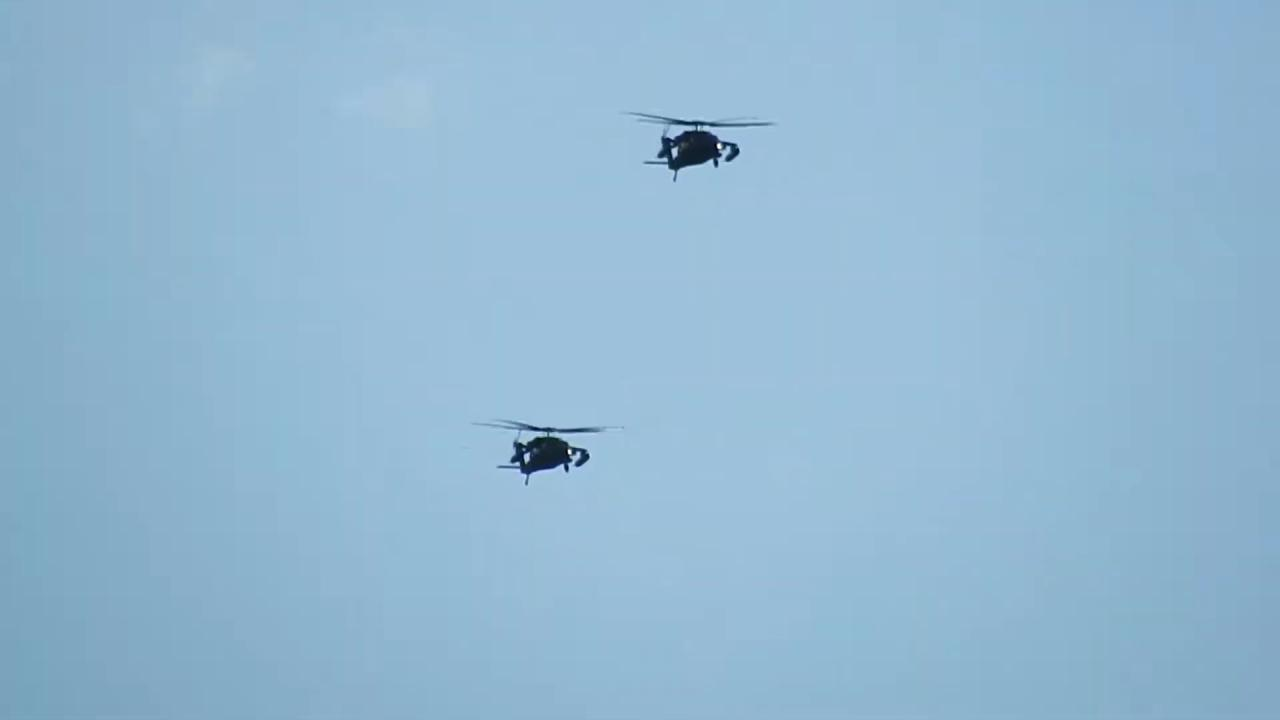Helicopter: (447, 387, 644, 514), (598, 80, 798, 204)
